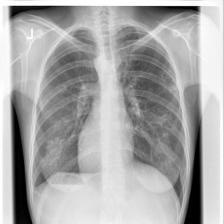tuberculosis: (27, 23, 189, 210)
